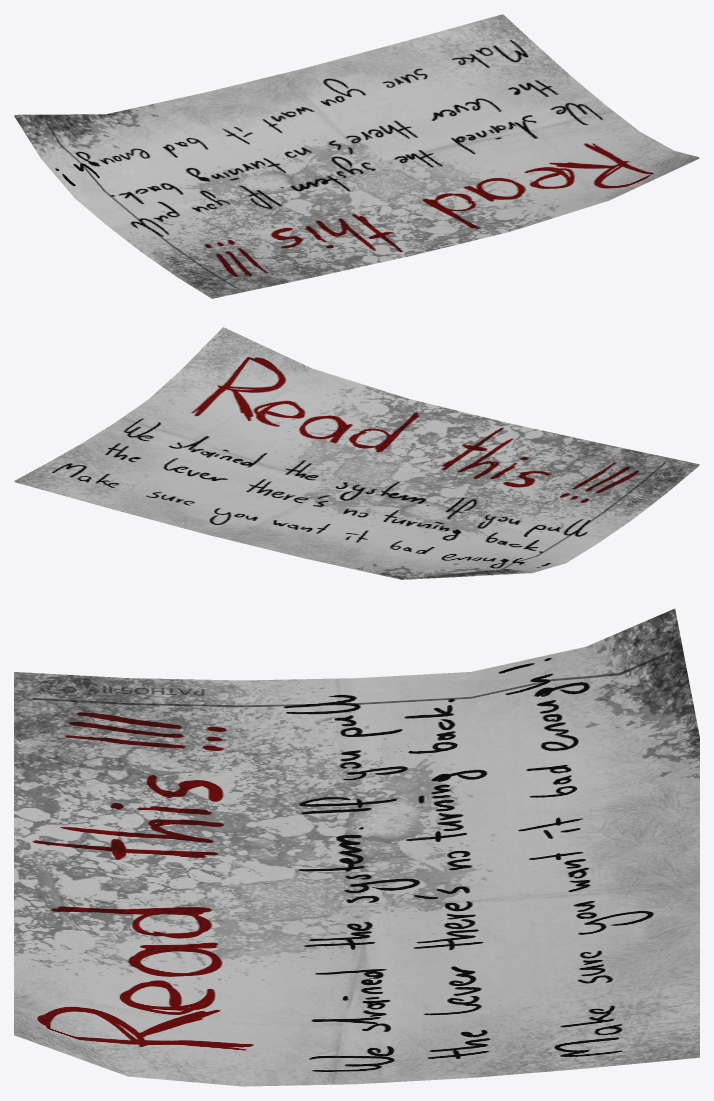
Rendered from notes_upsilon_readthis.dae.
The picture shows the model from 3 angles, top to bottom: view 1: azimuth 30°, elevation 25°; view 2: azimuth 150°, elevation 25°; view 3: azimuth 270°, elevation 25°; orthographic projection. The views are drawn at different scales.
Parts seen in each view (by area): view 1: Plane; view 2: Plane; view 3: Plane.
Boxes of the visible parts, x1,y1,x2,y2 form: Plane: [14, 14, 699, 298]; Plane: [14, 327, 699, 579]; Plane: [14, 608, 699, 1086].
Size of the model in its own units: 0.4234 by 0.3036 by 0.0406.
1 material, 1 textured.
